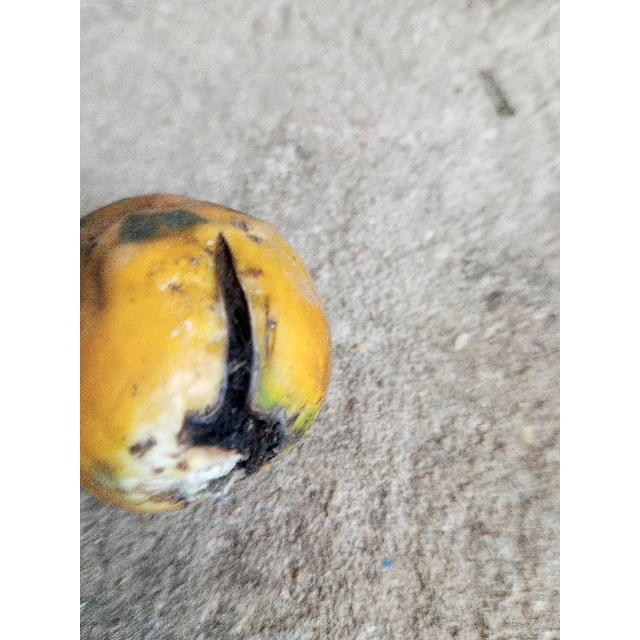damaged: (80, 195, 332, 517)
